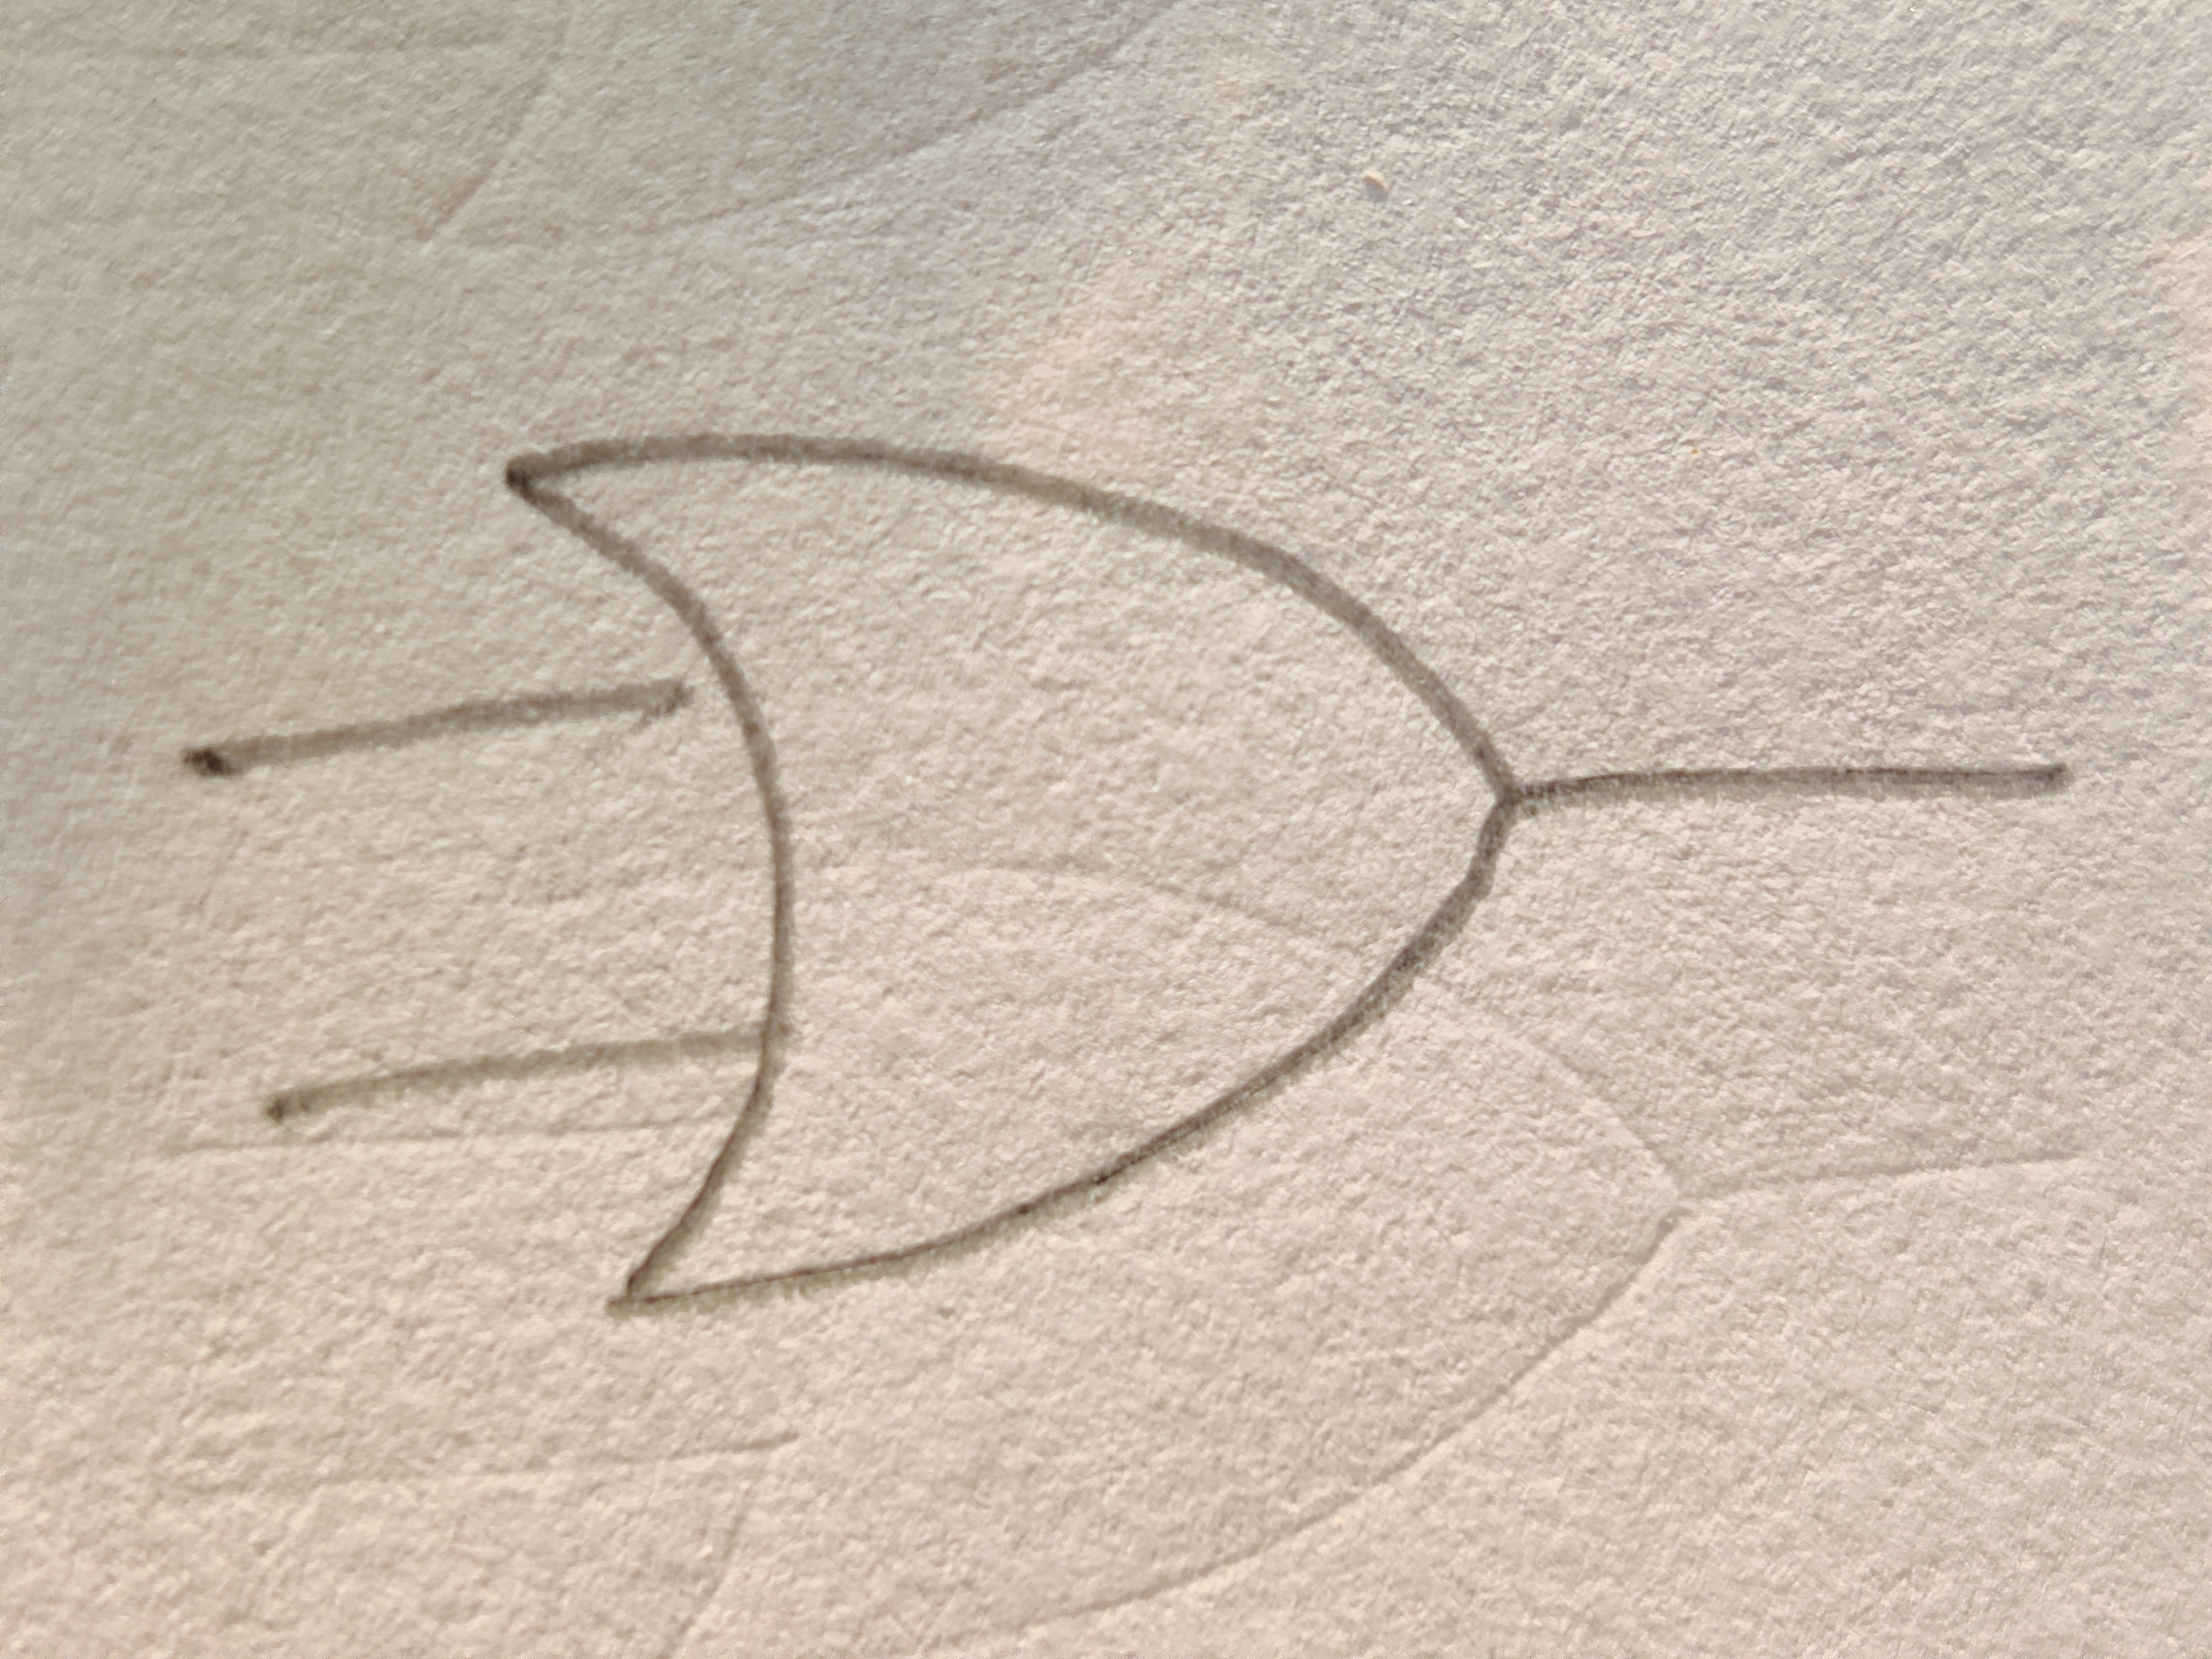or: (512, 437, 1522, 1312)
